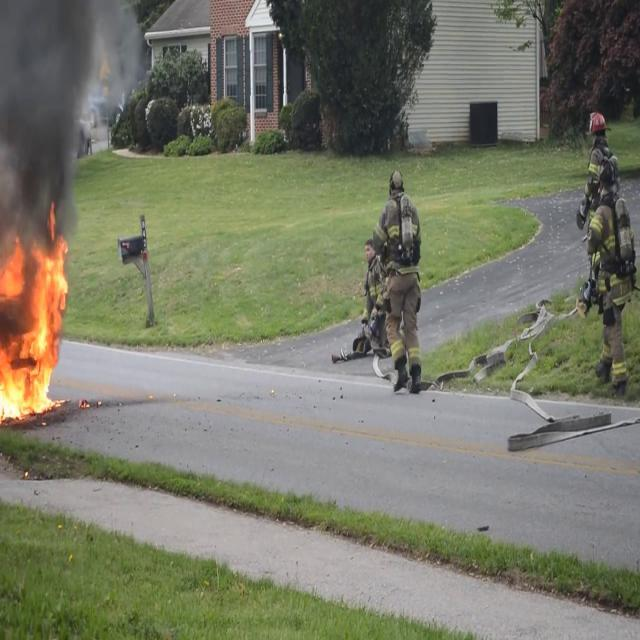Fire: (0, 222, 70, 427)
Smoke: (0, 0, 110, 252)
